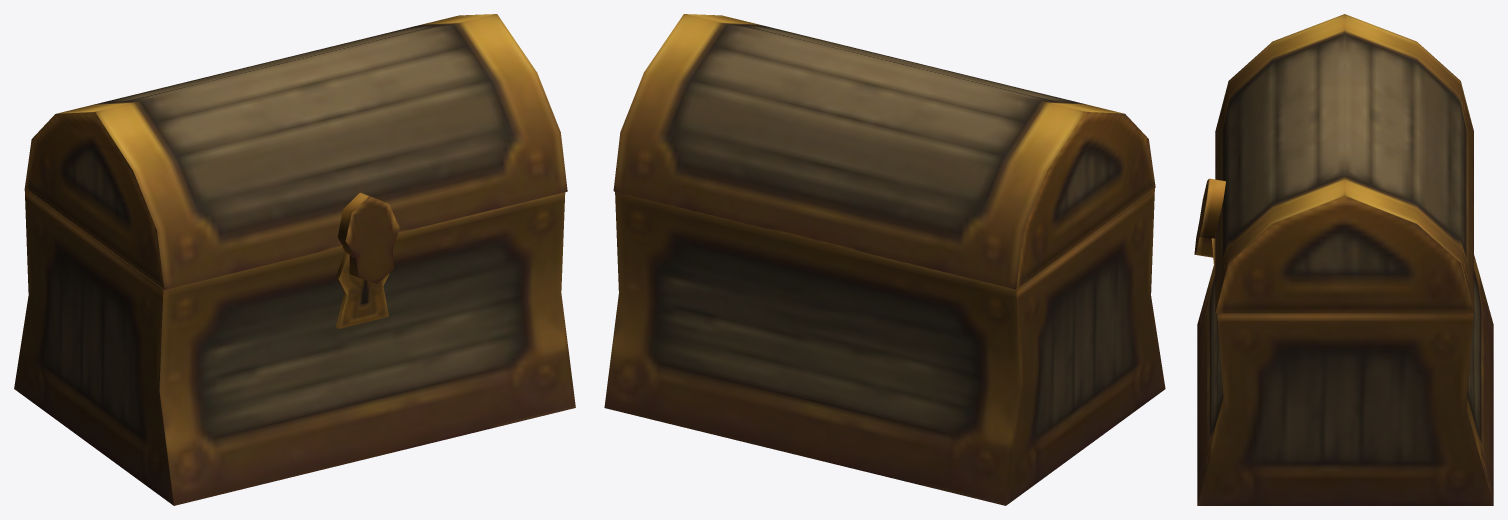
File: b-b-baoxiang-forest@unlock-00.FBX
3 renders of one model, left to right at view 1: azimuth 30°, elevation 25°; view 2: azimuth 150°, elevation 25°; view 3: azimuth 270°, elevation 25°, orthographic. The views are drawn at different scales.
Visible parts, largest first — view 1: b2, b1; view 2: b2, b1; view 3: b1, b2.
Part boxes in pixels (x1,y1,x2,y2): b2: (14, 188, 575, 505); b1: (25, 14, 567, 289); b2: (604, 188, 1165, 505); b1: (613, 14, 1155, 289); b1: (1194, 14, 1473, 313); b2: (1197, 238, 1493, 505).
Size of the model in its own units: 18.28 by 14.51 by 12.66.
